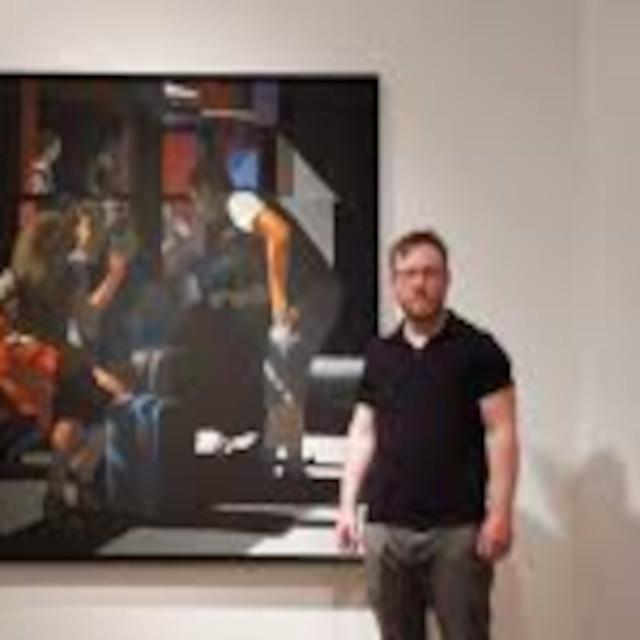mezczyzna: (341, 229, 537, 640)
